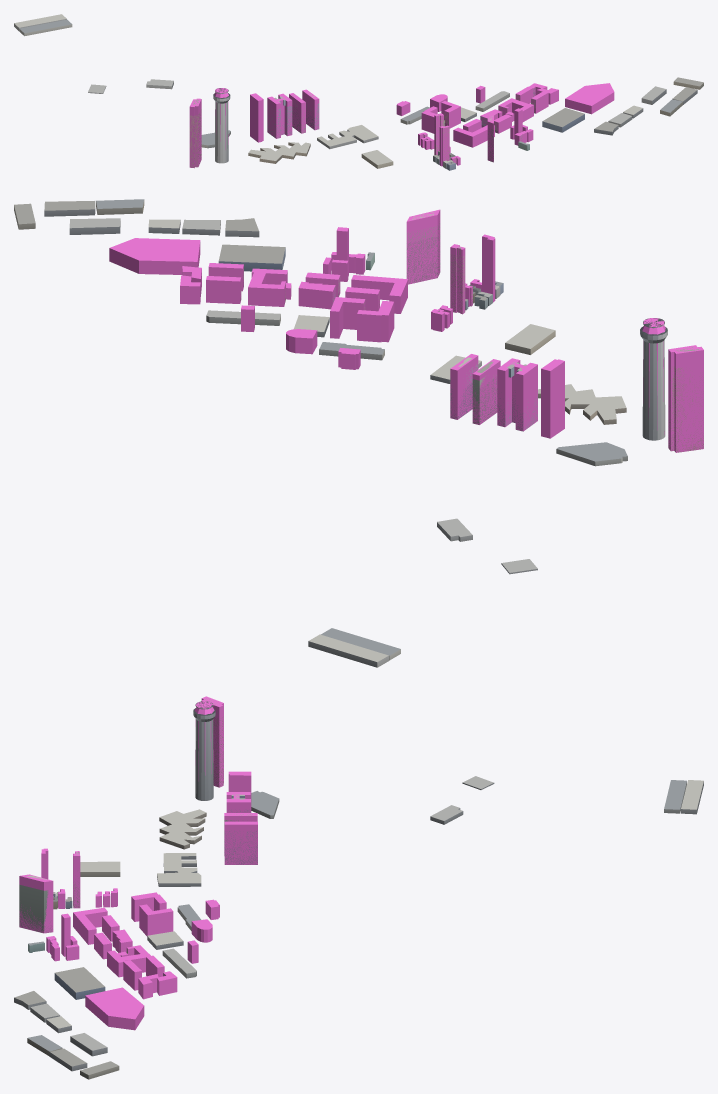
File: bld_14_8.fbx
3 renders of one model, top to bottom at view 1: azimuth 30°, elevation 25°; view 2: azimuth 150°, elevation 25°; view 3: azimuth 270°, elevation 25°, orthographic. The views are drawn at different scales.
Visible parts, largest first — view 1: bld_14_8_COL, bld_14_8_LOD0; view 2: bld_14_8_COL, bld_14_8_LOD0; view 3: bld_14_8_COL, bld_14_8_LOD0.
Boxes of the visible parts, left/top/right/bottom form: bld_14_8_COL: left=189, top=83, right=614, bottom=168; bld_14_8_LOD0: left=14, top=14, right=703, bottom=170; bld_14_8_COL: left=109, top=209, right=703, bottom=452; bld_14_8_LOD0: left=14, top=199, right=703, bottom=667; bld_14_8_COL: left=19, top=696, right=257, bottom=1030; bld_14_8_LOD0: left=14, top=698, right=703, bottom=1079.
Size of what is drawn, in the model's own units: 1771 by 252 by 1706.
